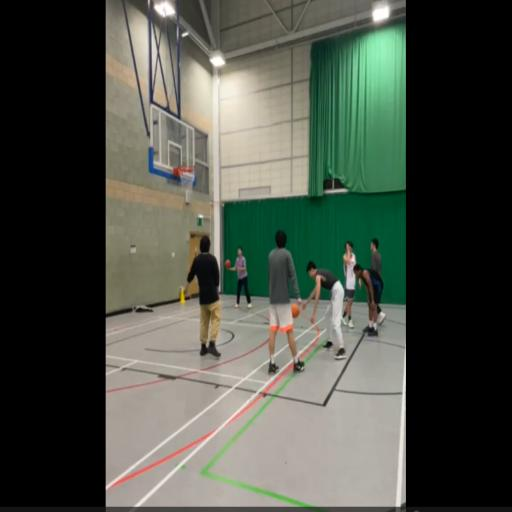hoops: (173, 160, 200, 200)
